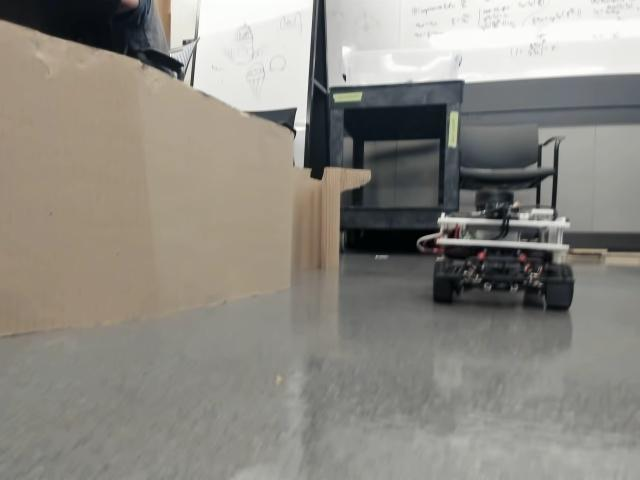Car: (416, 180, 574, 311)
